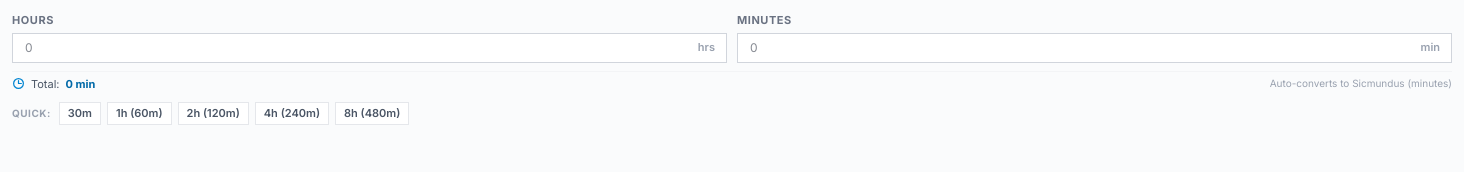
Test: DurationInput Component › updates total minutes when user changes hours
In the number field with placeholder "0" next to "hrs": (370, 48) [12,32,727,62], type "2"
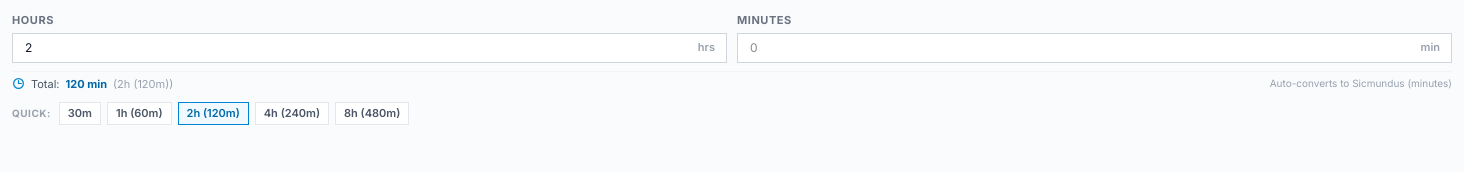
Result: the text "120 min" is shown at [66,76,107,92]
